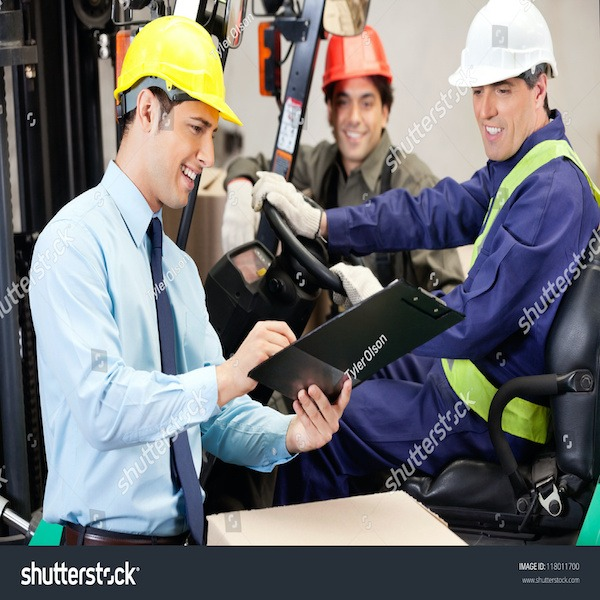helmet: (118, 15, 246, 100), (450, 4, 555, 87), (321, 24, 394, 89)
